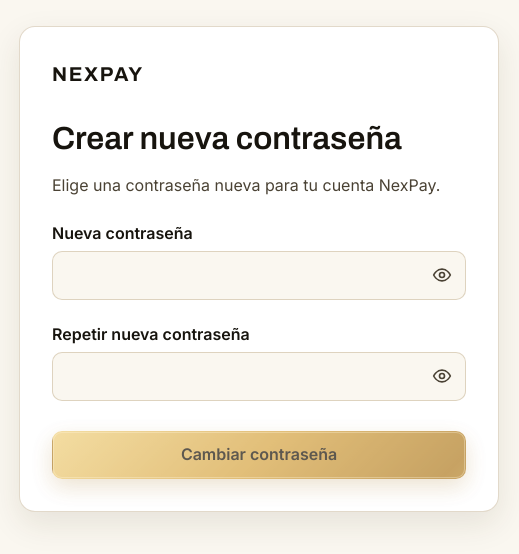
Test: recuperación de contraseña › permite cambiar la contraseña desde el enlace y confirma el resultado
This screenshot has width=519, height=554.
Type "NuevaClave123" into the password field labelled "Nueva contraseña".
click(259, 275); type("NuevaClave123")  # box [52,251,466,300]
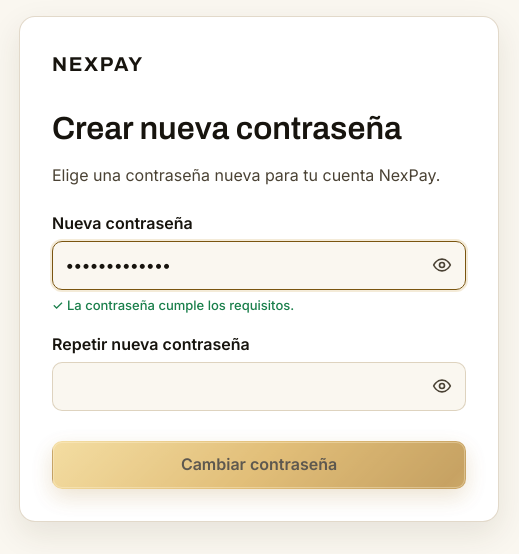
Type "NuevaClave123" into the password field labelled "Repetir nueva contraseña".
click(259, 386); type("NuevaClave123")  # box [52,362,466,411]
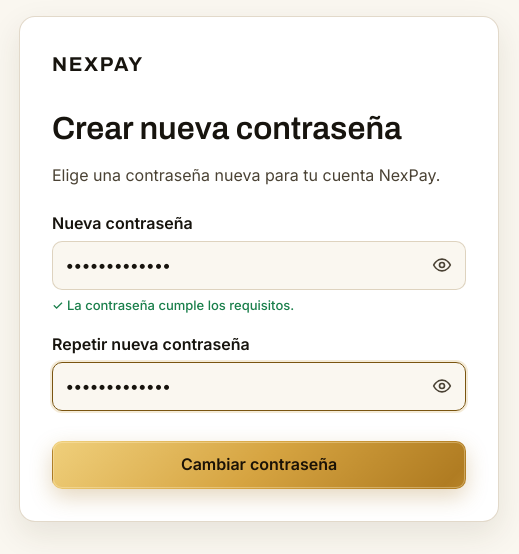
Click the button "Cambiar contraseña".
click(259, 465)  # box [52,441,466,489]
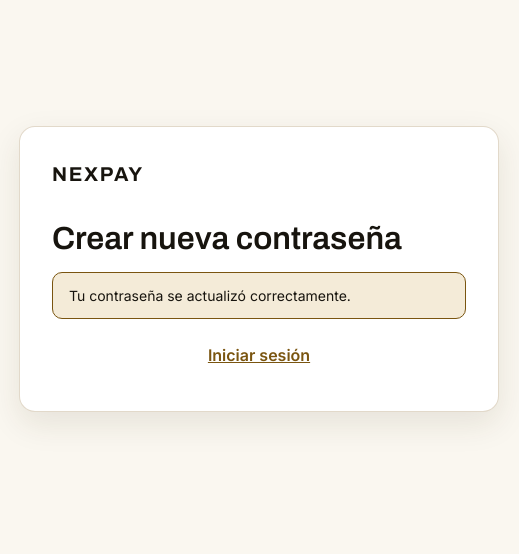
Expected: the message reads "Tu contraseña se actualizó correctamente.", [69,287,351,304]
